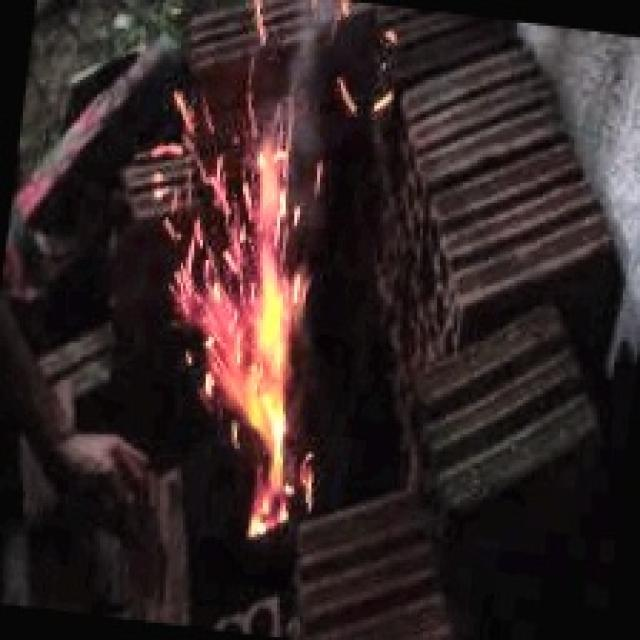fire: (80, 3, 414, 566)
